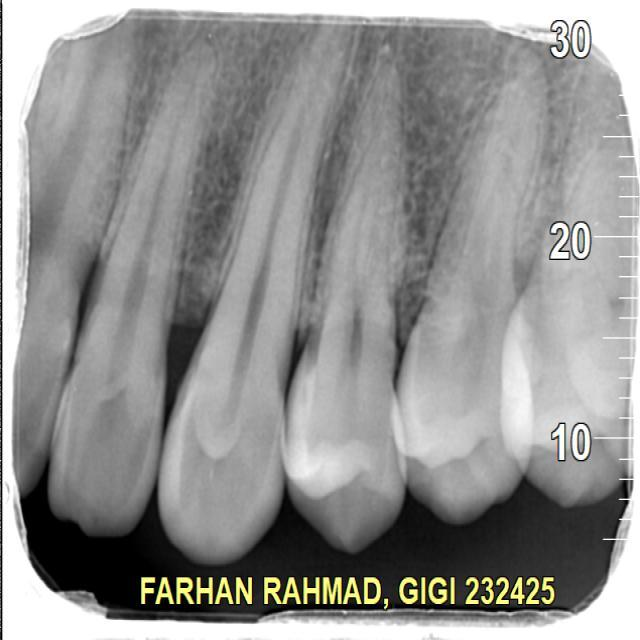individual-tooth-8tto: (153, 23, 353, 562), (47, 38, 214, 548), (389, 78, 535, 521), (282, 65, 406, 547)
